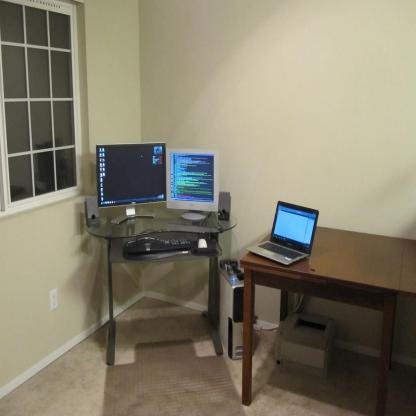board: (255, 196, 322, 277)
